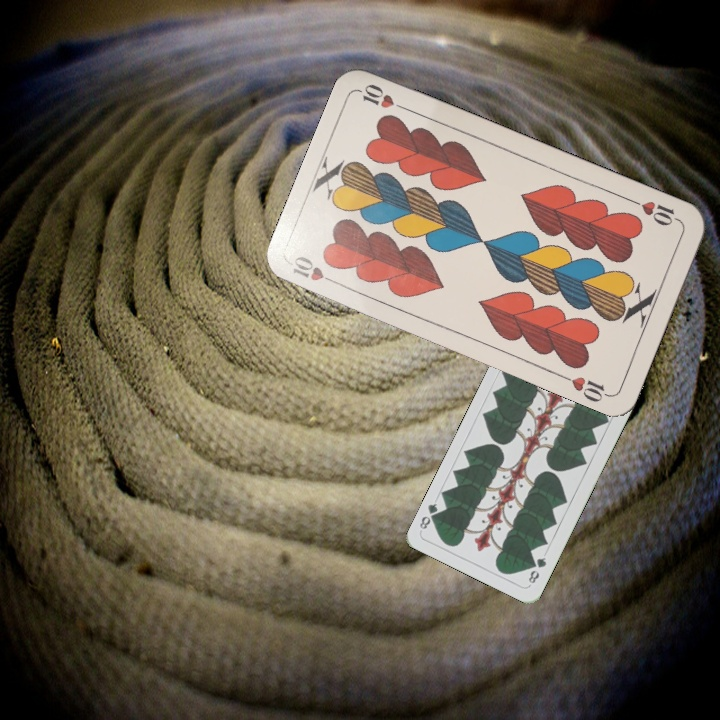G8: (524, 553, 549, 587)
H10: (288, 251, 343, 288), (626, 195, 683, 229)
